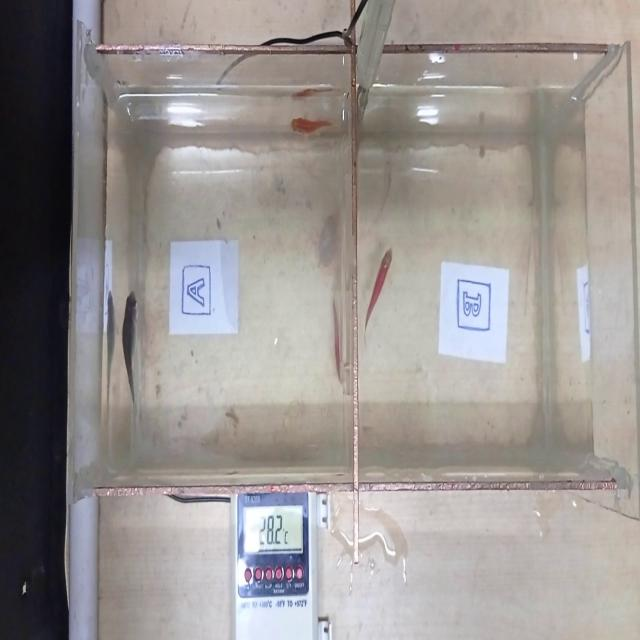Fish A1: (120, 267, 147, 433)
Fish A2: (282, 101, 336, 143)
Fish A3: (322, 287, 351, 402)
Fish B: (363, 238, 408, 342)
